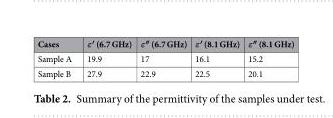table: (36, 36, 293, 79)
table column: (78, 36, 135, 79), (135, 36, 190, 79), (190, 36, 243, 79), (243, 36, 293, 79), (36, 36, 78, 79)
table column header: (36, 36, 293, 50)
table row: (36, 50, 293, 65), (36, 36, 293, 50), (36, 65, 293, 79)
